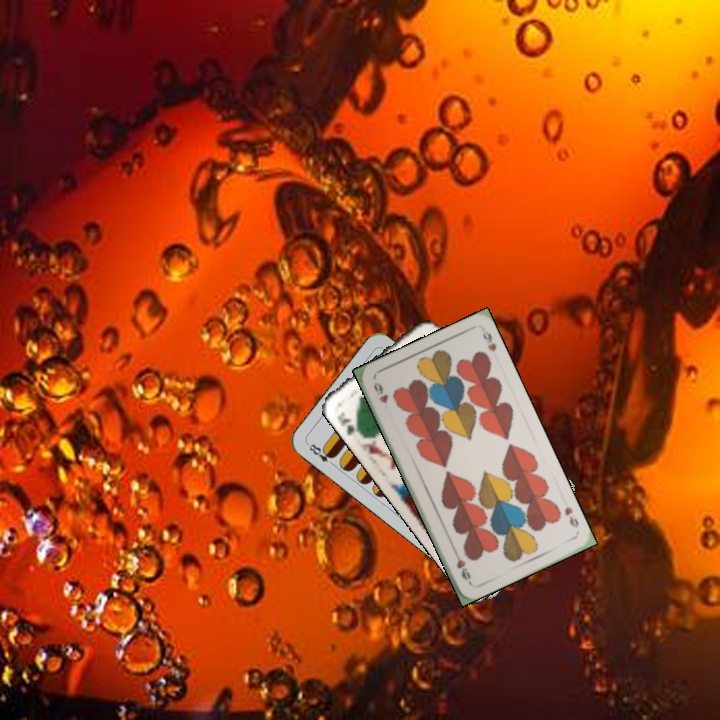E8: (303, 439, 338, 469)
GK: (333, 407, 363, 439)
H9: (369, 378, 391, 406), (560, 503, 581, 530)
